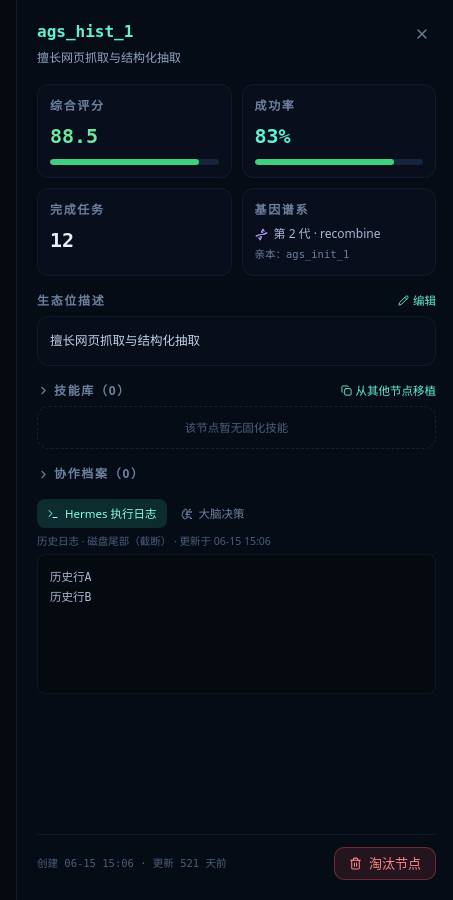
Scenario: NodeDrawer 渲染回归 › 实时缓冲空 → 拉磁盘历史日志尾部（2026-09-03：刷新后抽屉全空）
Expected: the text "历史行B" is shown, [50,590,91,604]
Expected: the text "历史日志 · 磁盘尾部（截断） · 更新于 06-15 15:06" is shown, [37,534,271,548]
# 大脑决策标签：agentlog 历史
Click the button "大脑决策": (212, 514) [170,499,254,528]
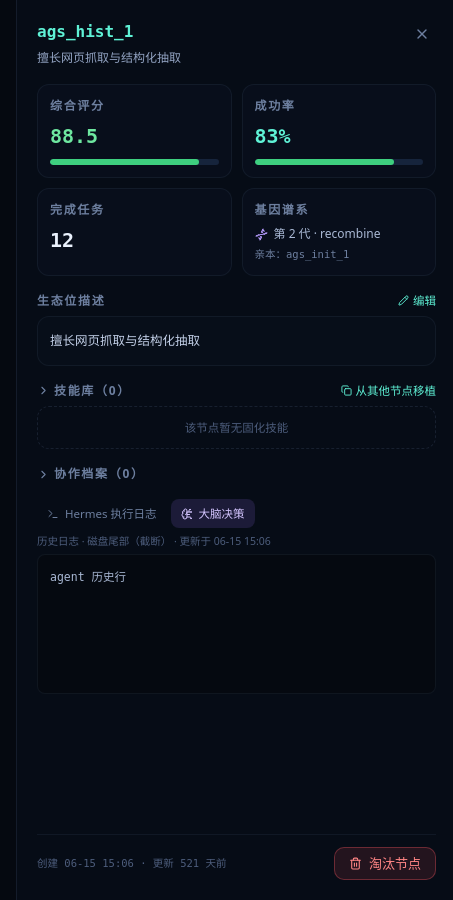
Now the text "agent 历史行" is shown, box [50,570,126,584]
